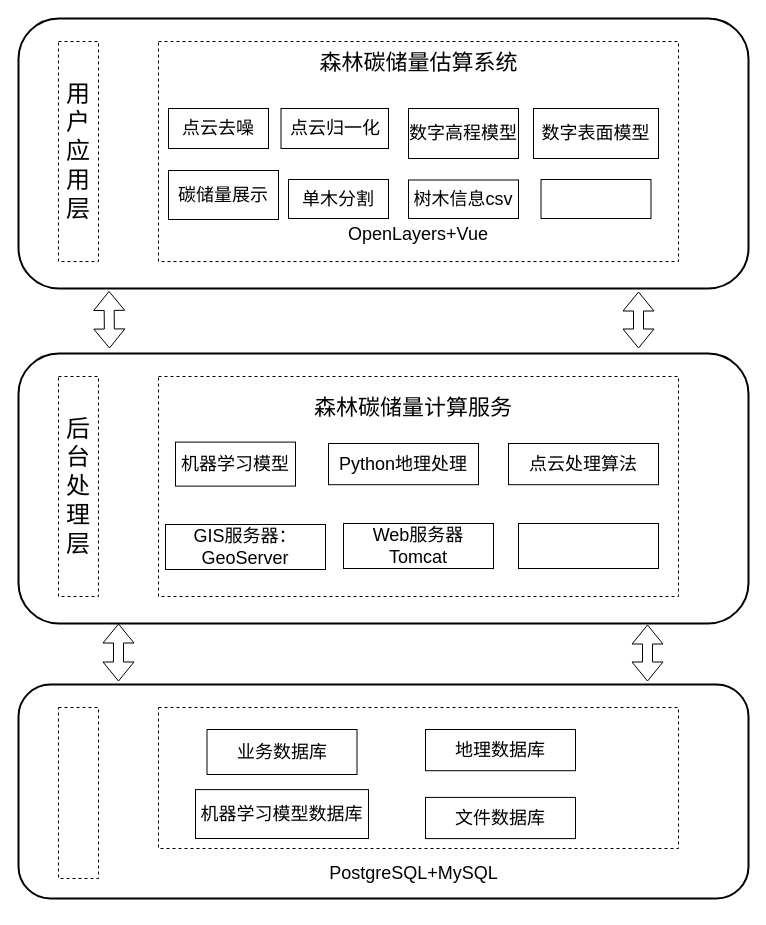
Image size: 766x925. Some labels were removed from this diagram. The shapes that lost their labels are listed below. From the top down, each one's box as (x1, y1, x2, y2) in pixels, then its label:
(540, 178, 651, 218): 数据交互
(518, 522, 658, 568): 数据访问
(58, 706, 98, 878): 数据层
